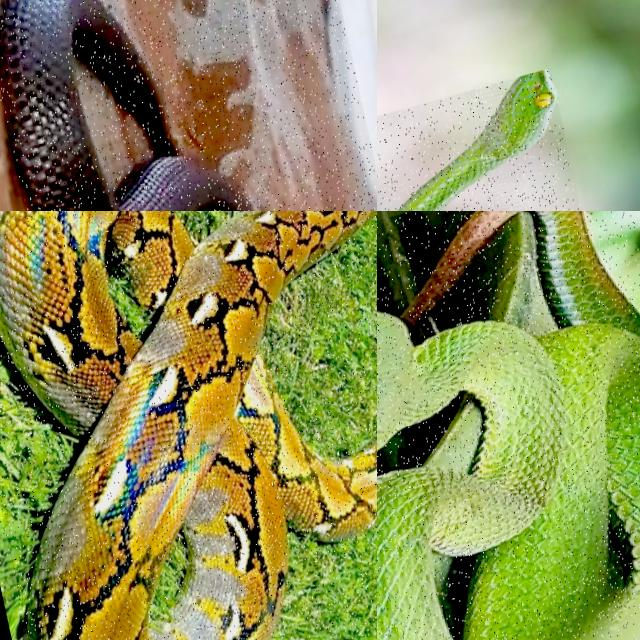Malayopython reticulatus: (0, 211, 376, 639)
Naja kaouthia: (0, 0, 250, 210)
Trimeresurus macrops: (377, 211, 639, 639), (404, 72, 556, 210)
